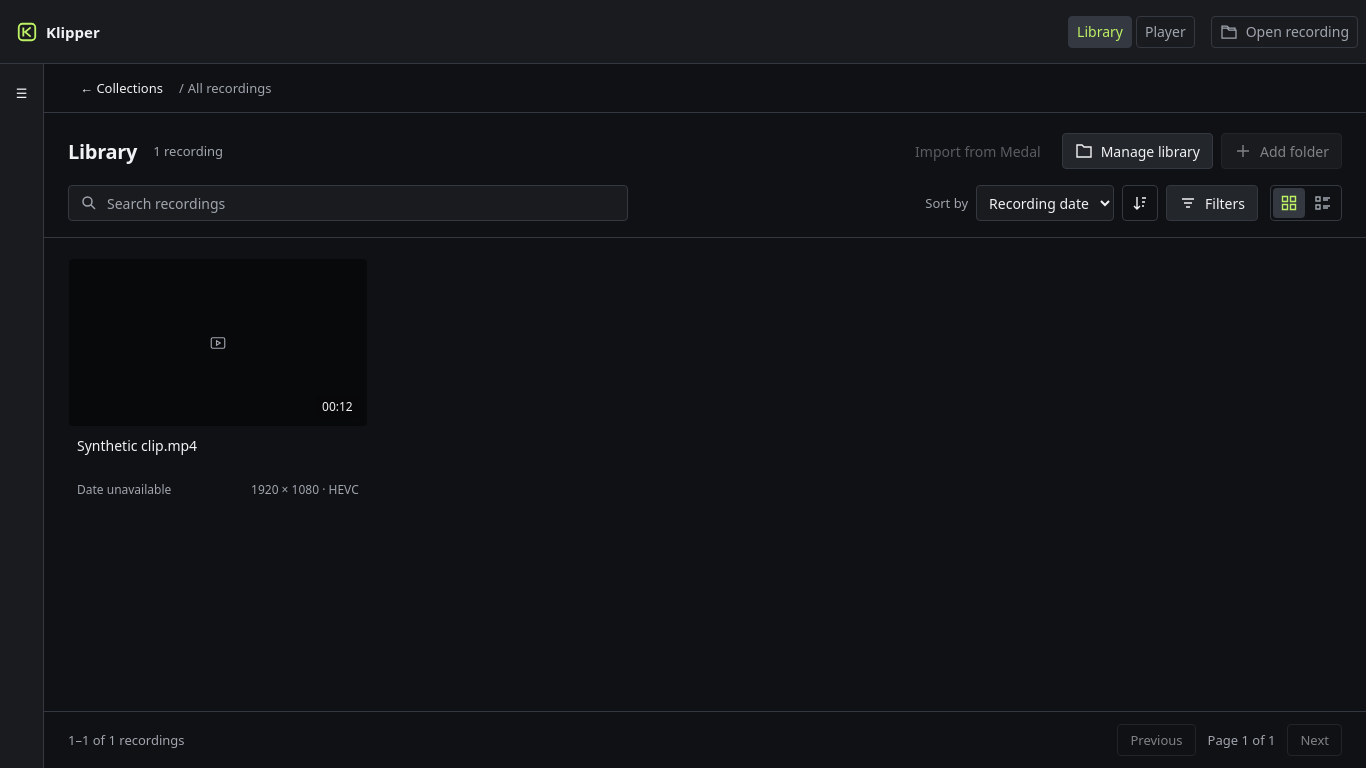
it: keeps Library usable after opening a missing recording fails
Click the button "00:12 Synthetic clip.mp4 Date unavailable 1920 × 1080 · HEVC" at (218, 383), box [68,258,368,508]
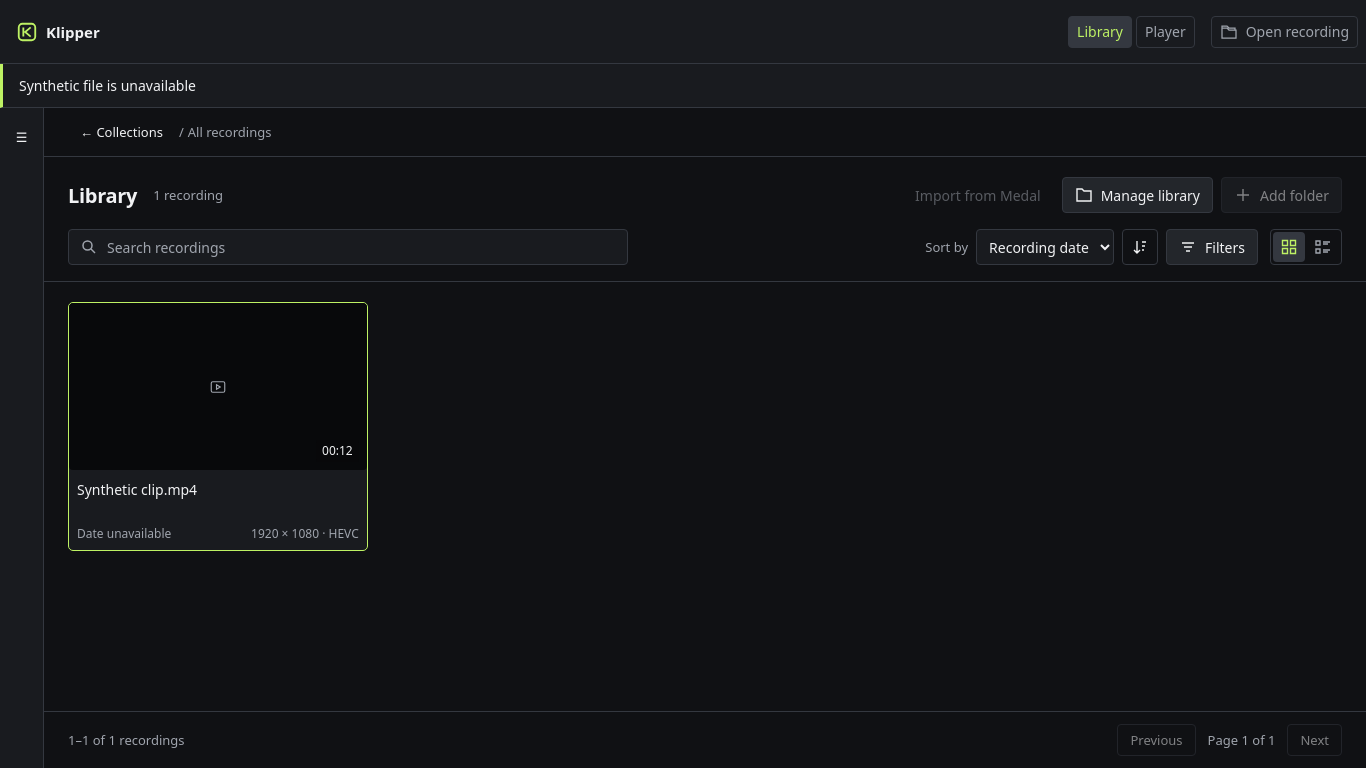
expect the message reads "Synthetic file is unavailable": met, box [19,76,196,95]
